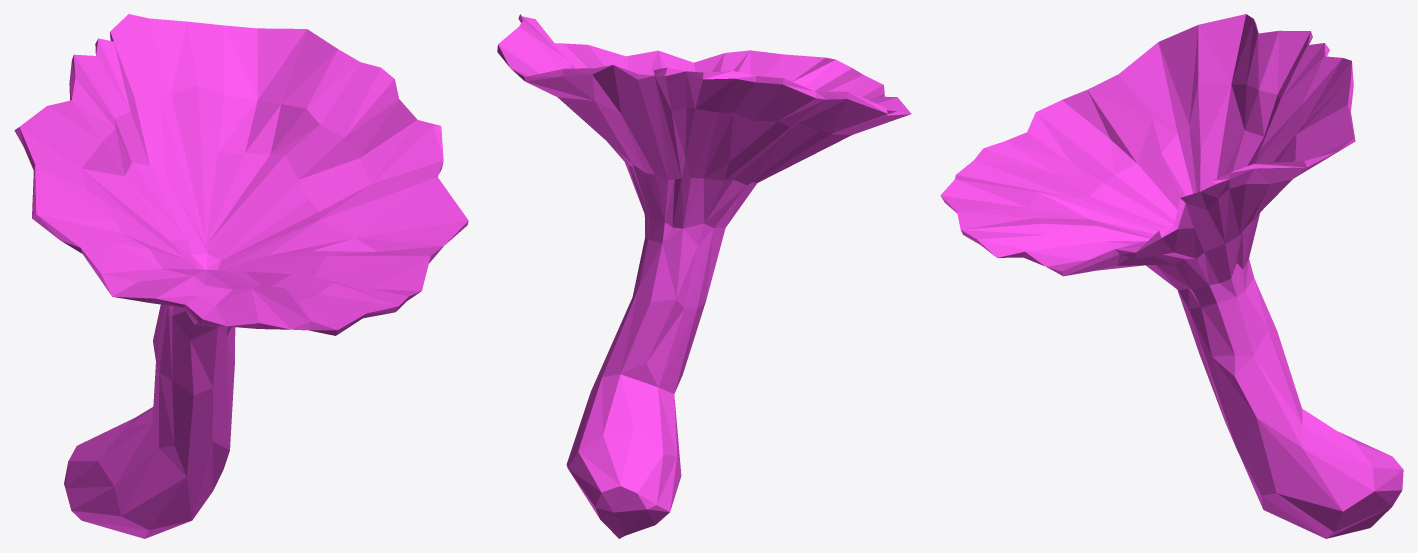
File: SM_Mushroom_Trumpet_Giant_B_Fantasy.fbx
3 renders of one model, left to right at view 1: azimuth 30°, elevation 25°; view 2: azimuth 150°, elevation 25°; view 3: azimuth 270°, elevation 25°, orthographic. The views are drawn at different scales.
Parts seen in each view (by area): view 1: SM_Mushroom_Trumpet_Giant_B_Fantasy; view 2: SM_Mushroom_Trumpet_Giant_B_Fantasy; view 3: SM_Mushroom_Trumpet_Giant_B_Fantasy.
Part boxes in pixels (<box>): SM_Mushroom_Trumpet_Giant_B_Fantasy: <box>14,14,468,538</box>; SM_Mushroom_Trumpet_Giant_B_Fantasy: <box>497,14,911,538</box>; SM_Mushroom_Trumpet_Giant_B_Fantasy: <box>940,14,1403,538</box>.
Bounding box in the file's own units: 4.37 × 5.21 × 4.6.
